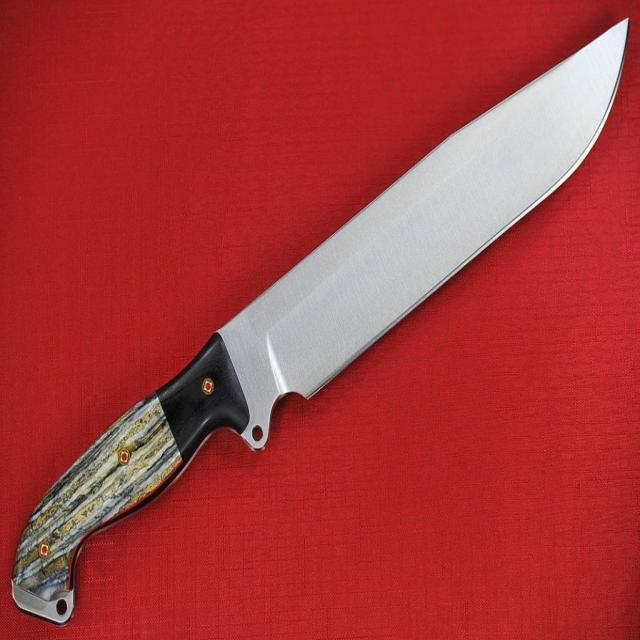Knife: (12, 20, 627, 624)
